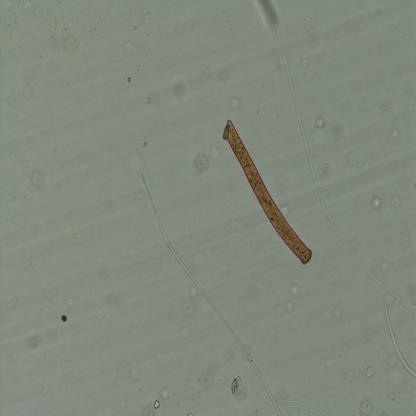Background material: (252, 1, 282, 32), (30, 167, 48, 193), (121, 362, 142, 384), (62, 32, 78, 53), (11, 210, 27, 230), (360, 397, 376, 416), (229, 375, 244, 395), (318, 162, 334, 180), (172, 82, 188, 100), (194, 152, 210, 170), (286, 280, 302, 297), (4, 291, 18, 310), (388, 192, 402, 210), (387, 353, 400, 371), (389, 126, 401, 144), (117, 385, 126, 409), (313, 114, 326, 130), (182, 299, 195, 314), (376, 259, 390, 272), (331, 304, 343, 319), (64, 294, 76, 309), (347, 152, 358, 168), (224, 20, 235, 36), (371, 195, 383, 209), (344, 371, 356, 385), (178, 326, 192, 338), (30, 334, 42, 348), (364, 364, 374, 380), (401, 233, 411, 248), (230, 100, 242, 112), (280, 204, 290, 218), (384, 293, 395, 305), (153, 398, 163, 411), (378, 102, 387, 116), (228, 218, 238, 230), (124, 40, 133, 53), (187, 286, 199, 295), (140, 138, 149, 149), (274, 304, 282, 316), (364, 163, 372, 174), (286, 300, 294, 310), (60, 314, 68, 324), (54, 19, 61, 28), (126, 75, 132, 84), (20, 0, 29, 6), (145, 96, 151, 104)
Glass filter fibre: (268, 4, 416, 318), (140, 175, 282, 416), (111, 260, 173, 398), (29, 260, 78, 414), (183, 108, 215, 254), (382, 301, 416, 378), (150, 356, 230, 386), (276, 398, 328, 414), (0, 378, 17, 414), (259, 12, 267, 56), (128, 401, 146, 416), (165, 1, 183, 15), (130, 0, 156, 7), (364, 197, 371, 208)
Microfibre: (222, 121, 312, 265)
